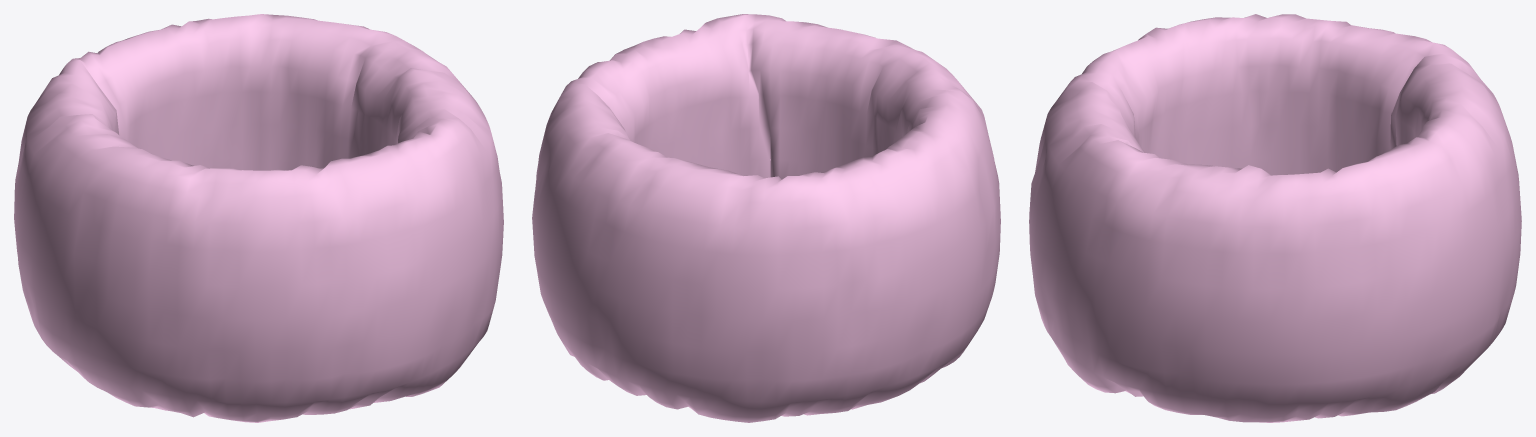
Rendered from Floatie.fbx.
3 views of the same model, side by side, from view 1: azimuth 30°, elevation 25°; view 2: azimuth 150°, elevation 25°; view 3: azimuth 270°, elevation 25° (orthographic). The views are drawn at different scales.
Visible parts, largest first — view 1: Torus.002; view 2: Torus.002; view 3: Torus.002.
Part boxes in pixels (x1=…): Torus.002: x1=14, y1=14, x2=503, y2=422; Torus.002: x1=532, y1=14, x2=1000, y2=422; Torus.002: x1=1029, y1=14, x2=1521, y2=422.
Bounding box in the file's own units: 93.4 × 54.24 × 94.46.
